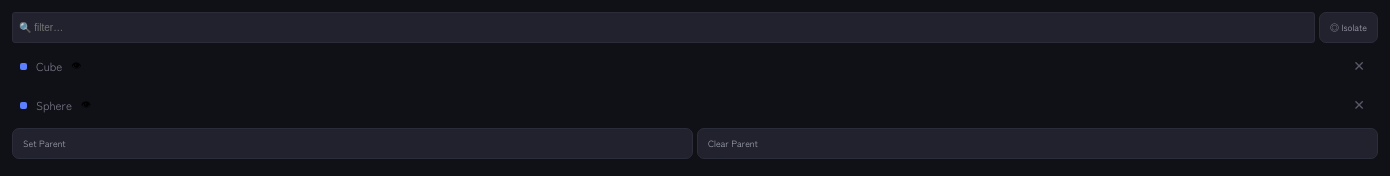
Test: HierarchyControls › the name filter narrows the list to matching names (old outlinerSearch → setOutlinerFilter)
In the search field named "Filter meshes by name": (663, 28) x1=12 y1=12 x2=1315 y2=43, type "sph"
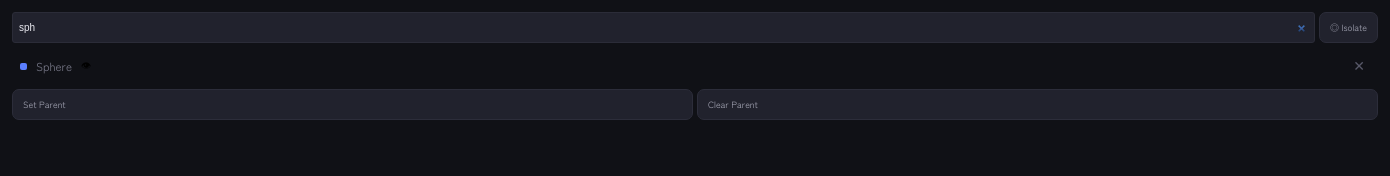
Expected: the text "Sphere" is shown, x1=36 y1=58 x2=72 y2=74
Now the text "Cube" is gone
